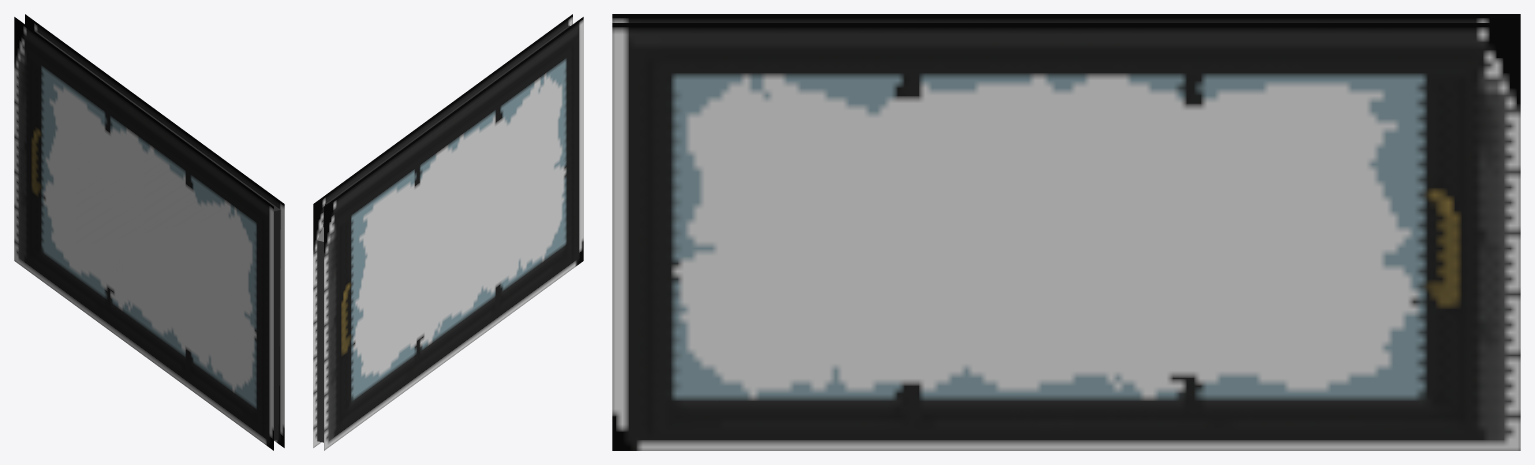
Rendered from pz_native_fixtures_windows_metal_72_frame.obj.
3 renders of one model, left to right at view 1: azimuth 30°, elevation 25°; view 2: azimuth 150°, elevation 25°; view 3: azimuth 270°, elevation 25°, orthographic. The views are drawn at different scales.
Parts seen in each view (by area): view 1: pz_native_fixtures_windows_metal_72_frame; view 2: pz_native_fixtures_windows_metal_72_frame; view 3: pz_native_fixtures_windows_metal_72_frame.
Part boxes in pixels (<box>): pz_native_fixtures_windows_metal_72_frame: <box>14,14,284,450</box>; pz_native_fixtures_windows_metal_72_frame: <box>313,14,583,450</box>; pz_native_fixtures_windows_metal_72_frame: <box>612,14,1520,450</box>.
Bounding box in the file's own units: 0.04 × 0.875 × 1.68.
Materials: 1 (1 with a texture image).
